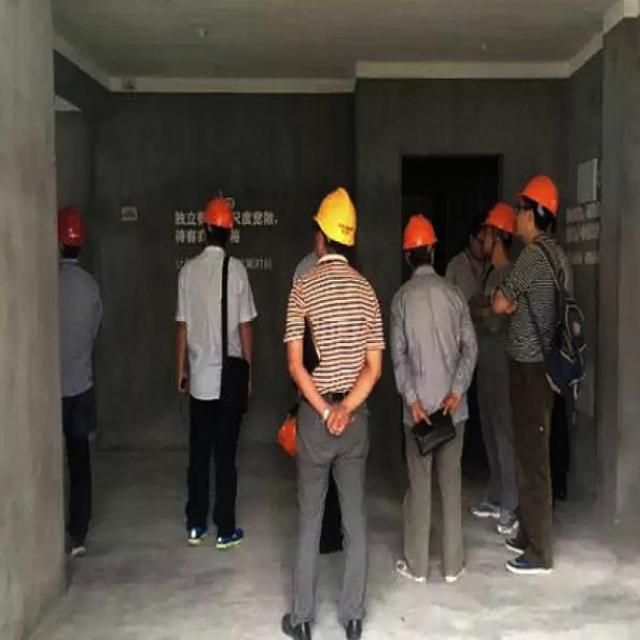helmet: (300, 181, 363, 255), (520, 162, 560, 243), (393, 208, 442, 268), (194, 192, 240, 250), (479, 202, 515, 267), (55, 192, 85, 260)
